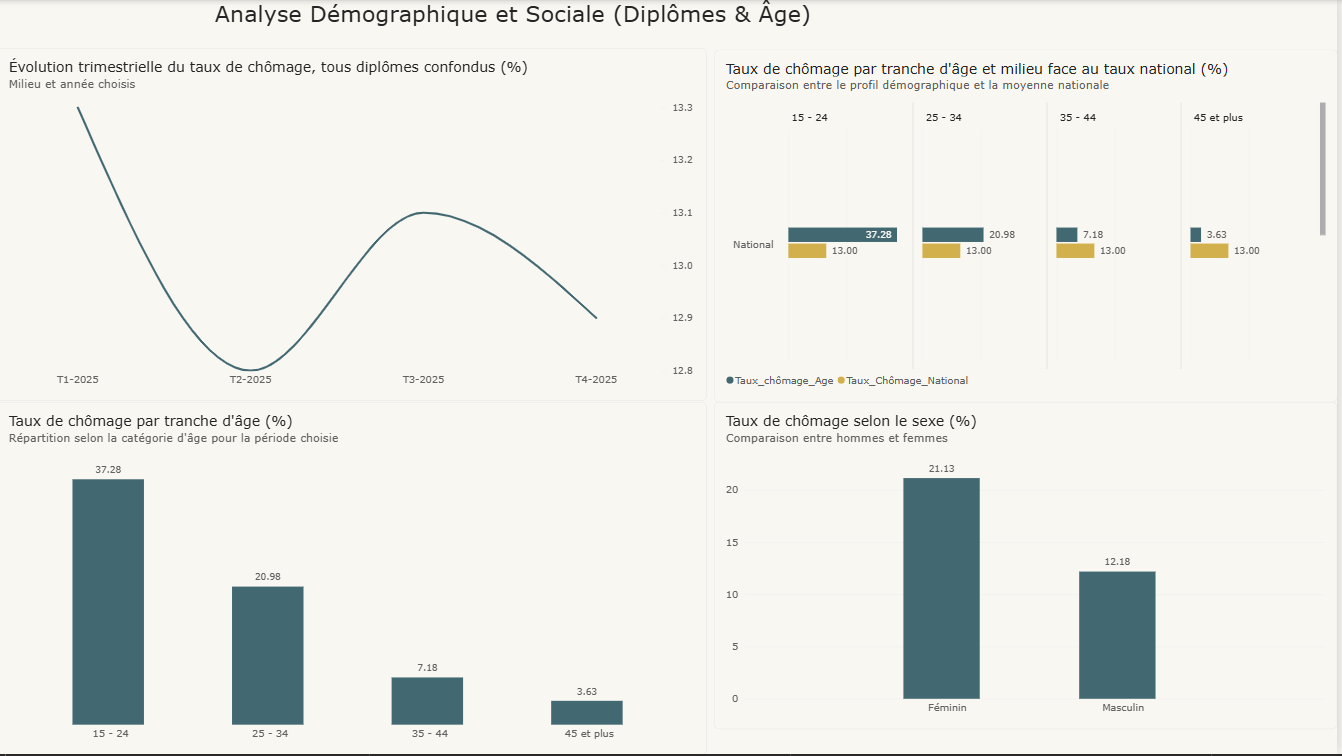

Layout of this report page (visuals, bound fields, positions):
{"tool":"powerbi","page":{"name":"Analyse Démographique et Sociale (Diplômes & Âge)","canvas":[1920,1080],"ordinal":2},"visuals":[{"type":"lineChart","title":"Évolution trimestrielle du taux de chômage, tous diplômes confondus (%)","fields":{"Category":["DimQuarter.Label"],"Y2":["Chomage_Diplome_Milieu.Taux_Chomage_Diplome"]},"box":[0,69.3,1016.8,505.5],"z":0},{"type":"clusteredColumnChart","title":"Taux de chômage par tranche d''âge (%)","fields":{"Category":["Chomage_Age_Milieu.Tranches d'âge"],"Y":["Chomage_Age_Milieu.Taux_chômage_Age"]},"box":[0,574.9,1016.8,505.5],"z":2},{"type":"clusteredBarChart","title":"Taux de chômage par tranche d''âge et milieu face au taux national (%)","fields":{"Category":["DimMilieu.Milieu"],"Rows":["Chomage_Age_Milieu.Tranches d'âge"],"Y":["Chomage_Age_Milieu.Taux_chômage_Age","Chomage_Maroc.Taux_Chômage_National"]},"box":[1027.2,70.8,893,505],"z":3},{"type":"clusteredColumnChart","title":"Taux de chômage selon le sexe (%)","fields":{"Category":["Chomage_Diplome_Sexe.Sexe"],"Y":["Chomage_Diplome_Sexe.Taux_Chomage_Sexe"]},"box":[1027.2,575.8,893,468.4],"z":4},{"type":"textbox","box":[153.7,0,1168.7,80.5],"z":6}]}

Visuals, with their boxes in screenshot pixels (x1, y1, x2, y2), scaled from the page's 1920x1080 canvas onto the 1342x756 screenshot:
"Évolution trimestrielle du taux de chômage, tous diplômes confondus (%)" lineChart: (x1=0, y1=49, x2=711, y2=402)
"Taux de chômage par tranche d''âge (%)" clusteredColumnChart: (x1=0, y1=402, x2=711, y2=755)
"Taux de chômage par tranche d''âge et milieu face au taux national (%)" clusteredBarChart: (x1=718, y1=50, x2=1341, y2=403)
"Taux de chômage selon le sexe (%)" clusteredColumnChart: (x1=718, y1=403, x2=1341, y2=731)
textbox: (x1=107, y1=0, x2=924, y2=56)
